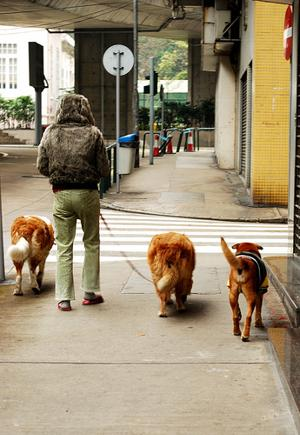person: (38, 92, 112, 317)
